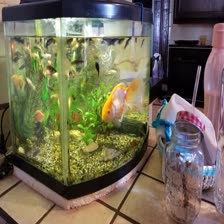Cuezo: (98, 74, 141, 129)
